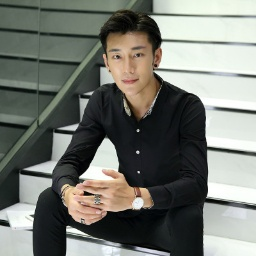face: (102, 10, 163, 94)
